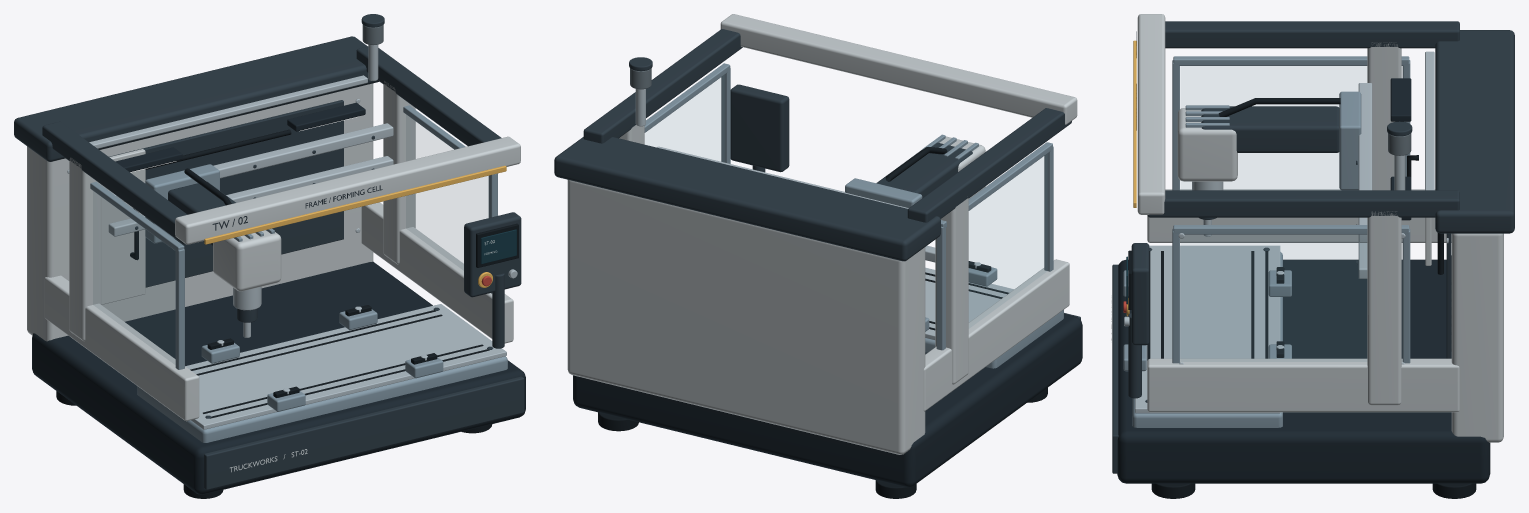
The model's file is forming-cell.glb.
The picture shows the model from 3 angles, left to right: view 1: azimuth 30°, elevation 25°; view 2: azimuth 150°, elevation 25°; view 3: azimuth 270°, elevation 25°; orthographic projection. The views are drawn at different scales.
Visible parts, largest first — view 1: FormingCell_Enamel_Pearl, FormingCell_Enamel_Graphite, FormingCell_Cast_Base, FormingCell_Machined_Steel, FormingCell_Safety_Polycarbonate, FormingCell_Brushed_Aluminium, FormingCell_Rubber_Seal, SpindleSlide_Enamel_Pearl, FormingCell_Safety_Amber, CarriageX_Brushed_Aluminium, CarriageX_Enamel_Graphite, ClampBack_Brushed_Aluminium (+3 smaller); view 2: FormingCell_Enamel_Pearl, FormingCell_Enamel_Graphite, FormingCell_Cast_Base, FormingCell_Safety_Polycarbonate, FormingCell_Brushed_Aluminium, FormingCell_Machined_Steel, CarriageX_Enamel_Graphite, FormingCell_Rubber_Seal, CarriageX_Brushed_Aluminium; view 3: FormingCell_Enamel_Pearl, FormingCell_Cast_Base, FormingCell_Enamel_Graphite, FormingCell_Safety_Polycarbonate, FormingCell_Machined_Steel, FormingCell_Brushed_Aluminium, CarriageX_Enamel_Graphite, FormingCell_Rubber_Seal, SpindleSlide_Enamel_Pearl, CarriageX_Brushed_Aluminium, CarriageX_Rubber_Seal, ClampBack_Brushed_Aluminium (+3 smaller).
Part boxes in pixels (x1,y1,x2,y2): FormingCell_Enamel_Pearl: [27, 81, 520, 421]; FormingCell_Enamel_Graphite: [14, 14, 524, 489]; FormingCell_Cast_Base: [32, 102, 525, 494]; FormingCell_Machined_Steel: [67, 44, 517, 429]; FormingCell_Safety_Polycarbonate: [93, 115, 487, 363]; FormingCell_Brushed_Aluminium: [90, 105, 507, 442]; FormingCell_Rubber_Seal: [56, 129, 518, 498]; SpindleSlide_Enamel_Pearl: [213, 230, 281, 291]; FormingCell_Safety_Amber: [204, 165, 506, 287]; CarriageX_Brushed_Aluminium: [145, 164, 219, 243]; CarriageX_Enamel_Graphite: [168, 181, 235, 245]; ClampBack_Brushed_Aluminium: [201, 309, 377, 363]; FormingCell_Enamel_Pearl: [567, 14, 1077, 454]; FormingCell_Enamel_Graphite: [554, 29, 1080, 319]; FormingCell_Cast_Base: [573, 313, 1082, 487]; FormingCell_Safety_Polycarbonate: [645, 76, 1046, 327]; FormingCell_Brushed_Aluminium: [644, 63, 1063, 368]; FormingCell_Machined_Steel: [635, 89, 1013, 340]; CarriageX_Enamel_Graphite: [876, 142, 972, 197]; FormingCell_Rubber_Seal: [598, 272, 1047, 498]; CarriageX_Brushed_Aluminium: [845, 178, 922, 207]; FormingCell_Enamel_Pearl: [1137, 14, 1503, 442]; FormingCell_Cast_Base: [1117, 78, 1490, 483]; FormingCell_Enamel_Graphite: [1112, 21, 1514, 473]; FormingCell_Safety_Polycarbonate: [1181, 66, 1366, 361]; FormingCell_Machined_Steel: [1124, 51, 1448, 413]; FormingCell_Brushed_Aluminium: [1132, 56, 1410, 427]; CarriageX_Enamel_Graphite: [1201, 106, 1339, 152]; FormingCell_Rubber_Seal: [1128, 155, 1476, 498]; SpindleSlide_Enamel_Pearl: [1177, 108, 1237, 181]; CarriageX_Brushed_Aluminium: [1339, 91, 1361, 190]; CarriageX_Rubber_Seal: [1218, 98, 1340, 116]; ClampBack_Brushed_Aluminium: [1268, 270, 1291, 358].
Bounding box in the file's own units: 3.18 × 2.94 × 2.94.
